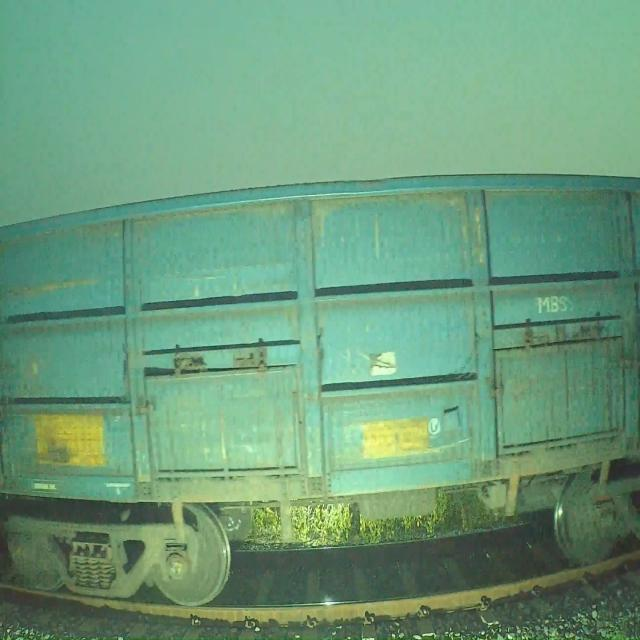WAgon-uic: (0, 166, 640, 614)
